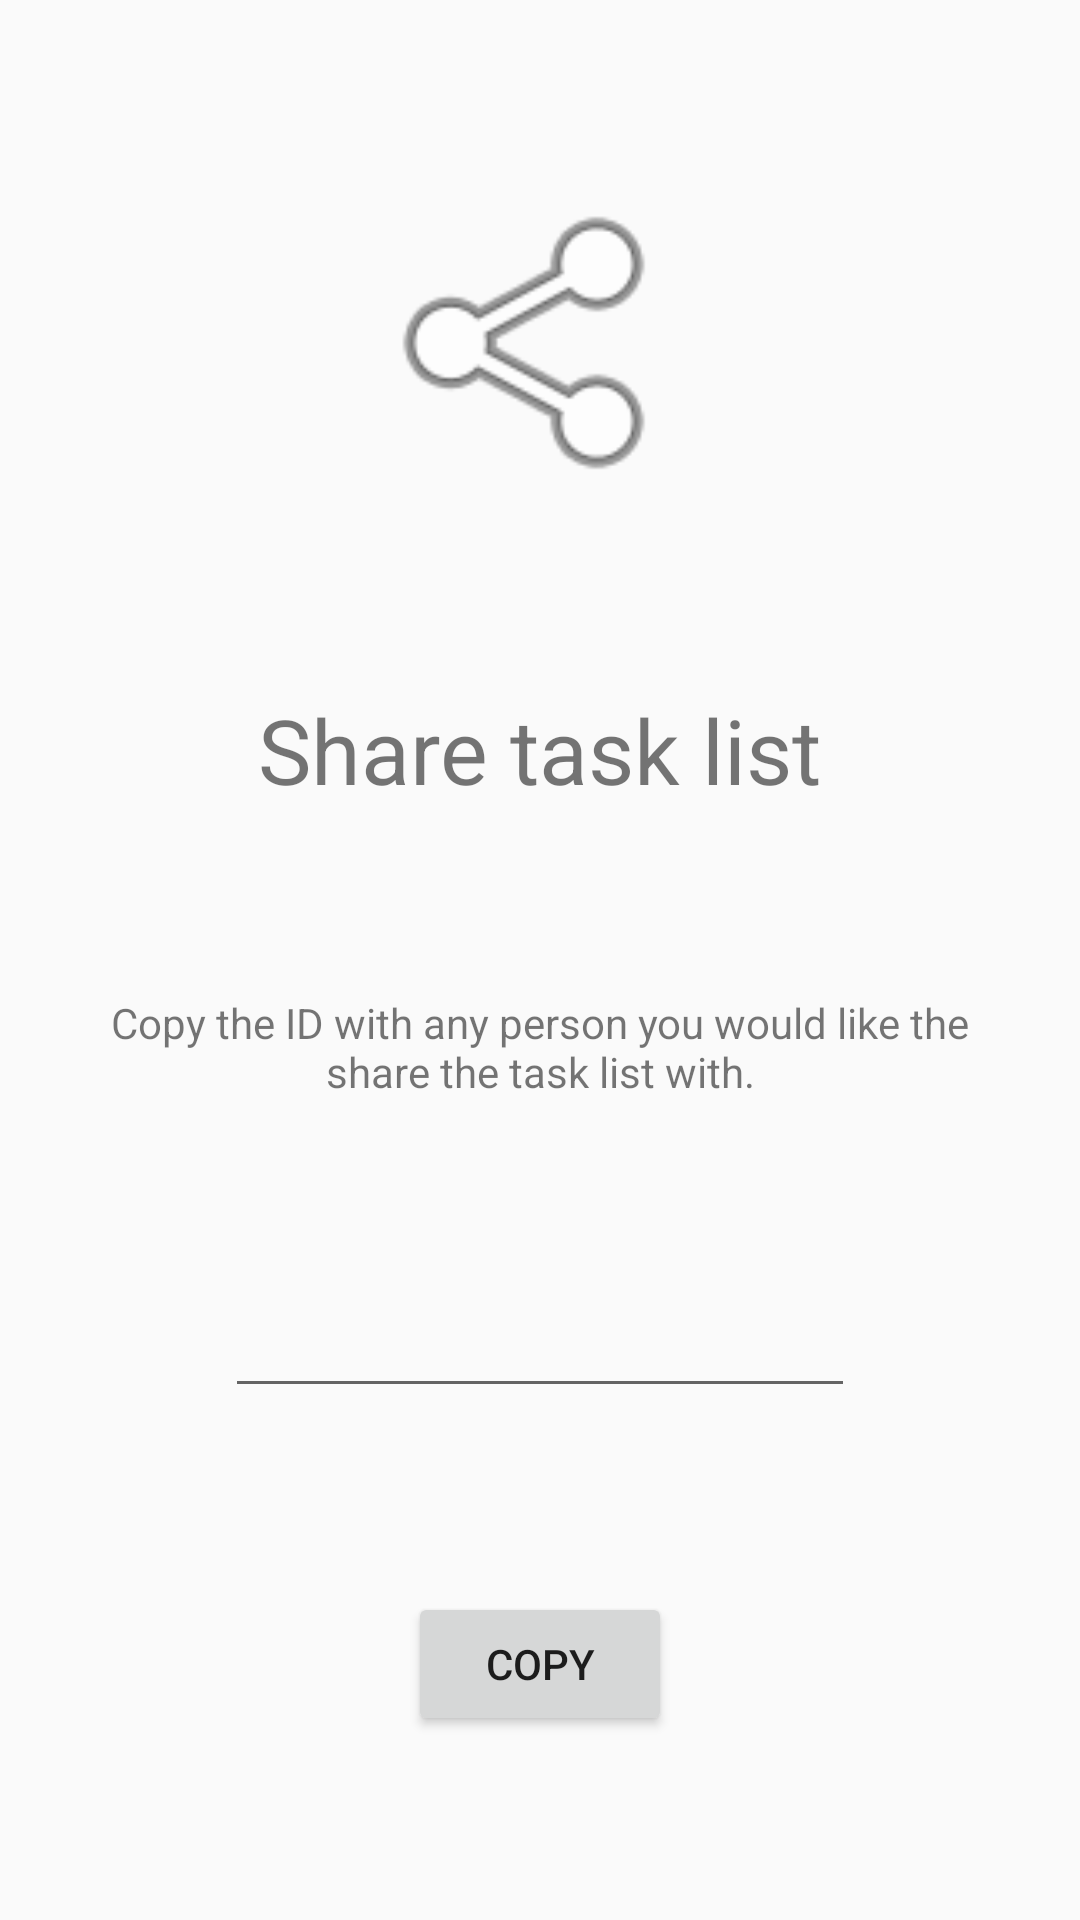

Screen size 1080px x 1920px. Icon name, then its box in pixels as (x1, y1, x2, y2):
Share task list: (403, 217, 644, 469)
